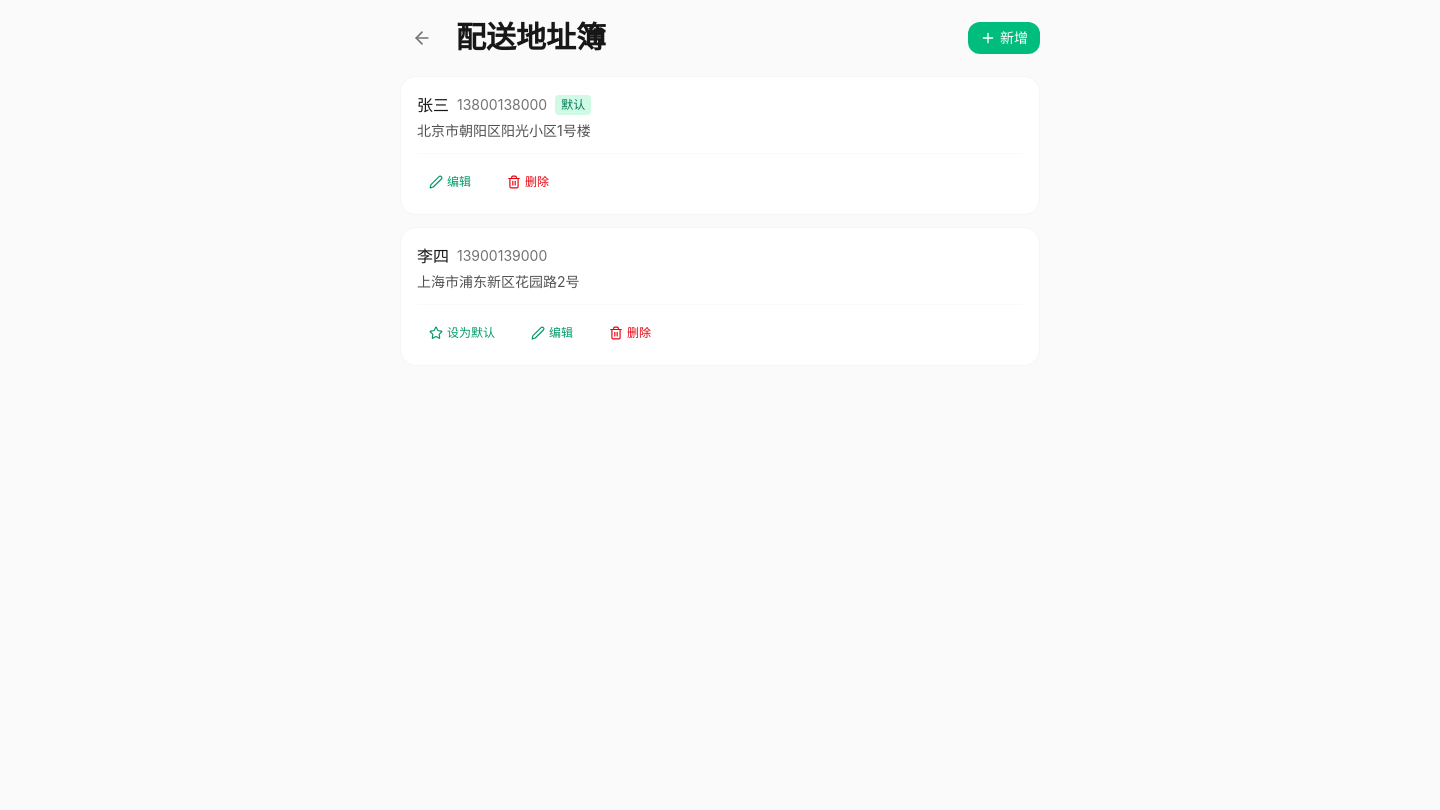
Test: AddressBook 配送地址簿 › 点击"编辑"打开弹窗显示"编辑地址"标题与预填数据
Check: the text "张三" is shown, box left=417, top=93, right=449, bottom=117
// 点击第一个地址的"编辑"按钮
Click the button "编辑" below "北京市朝阳区阳光小区1号楼": [450, 182] box left=417, top=166, right=483, bottom=198
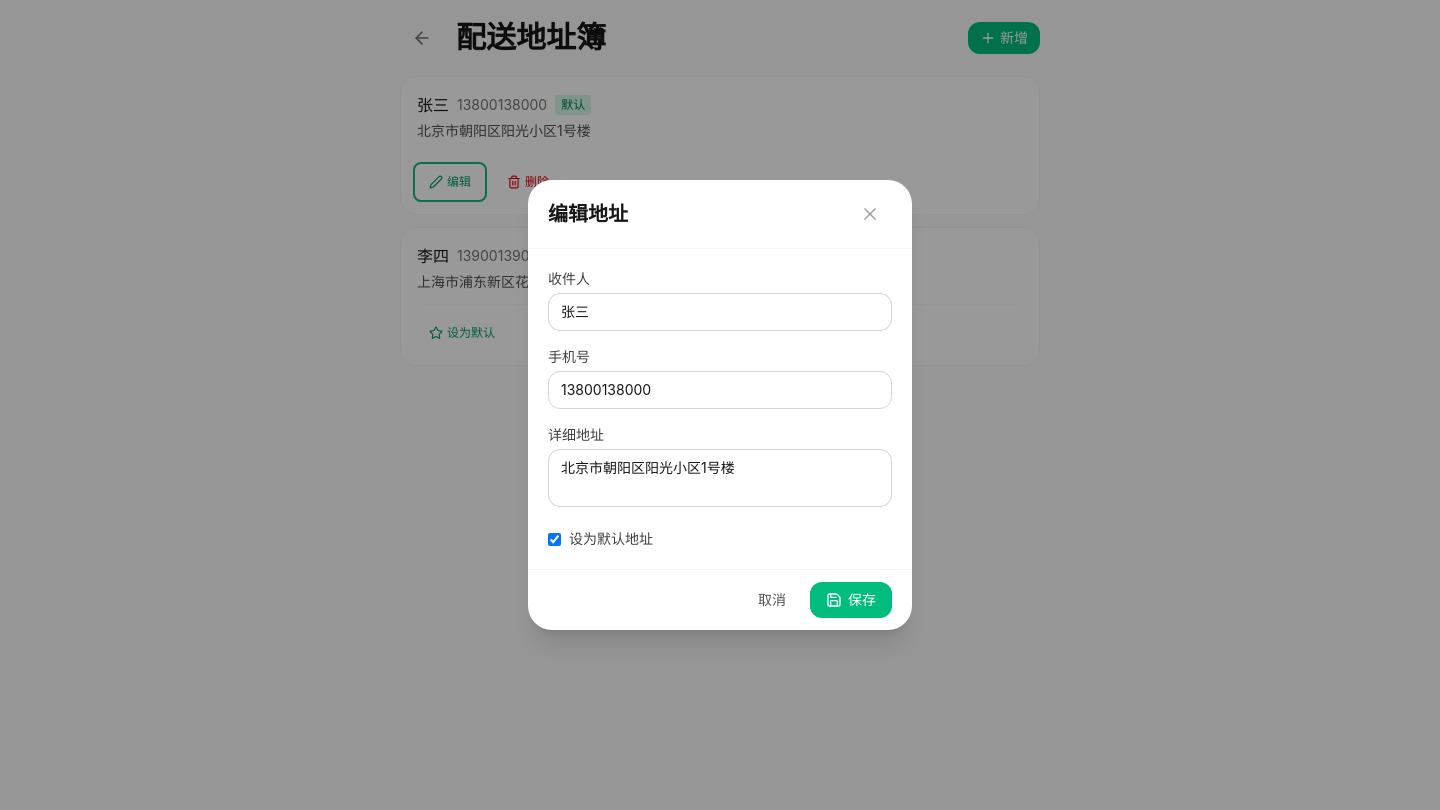
Check: the heading "编辑地址" is shown, box left=548, top=202, right=628, bottom=226
Check: the field with placeholder "请输入收件人姓名" holds "张三", box left=548, top=293, right=892, bottom=331
Check: the field with placeholder "请输入手机号" holds "13800138000", box left=548, top=371, right=892, bottom=409
